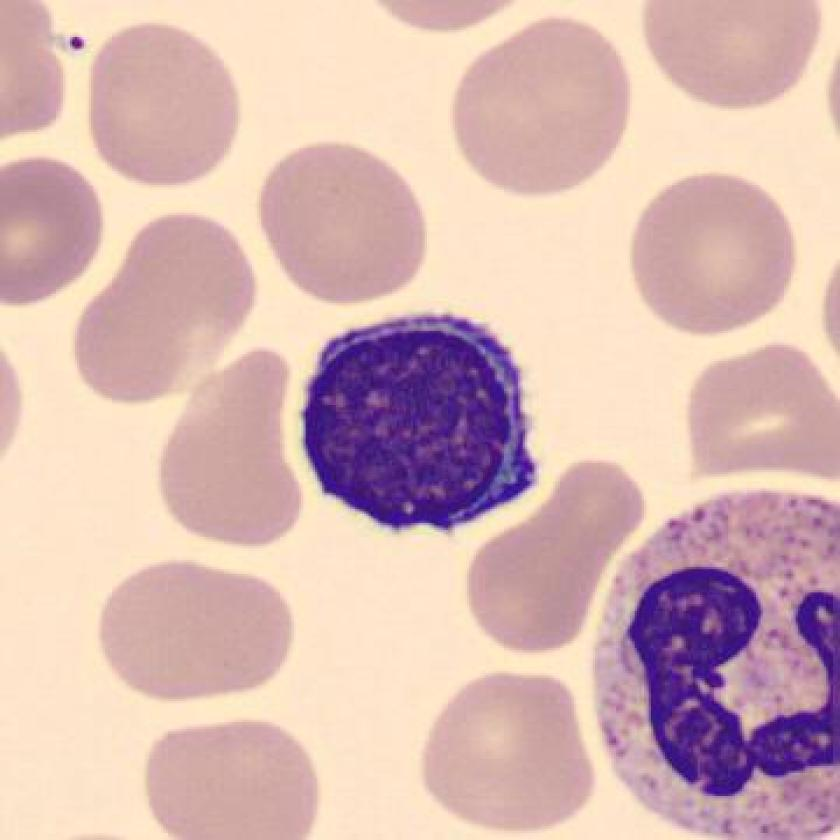lymphocyte: (286, 297, 549, 561)
neutrophil: (582, 479, 840, 840)
